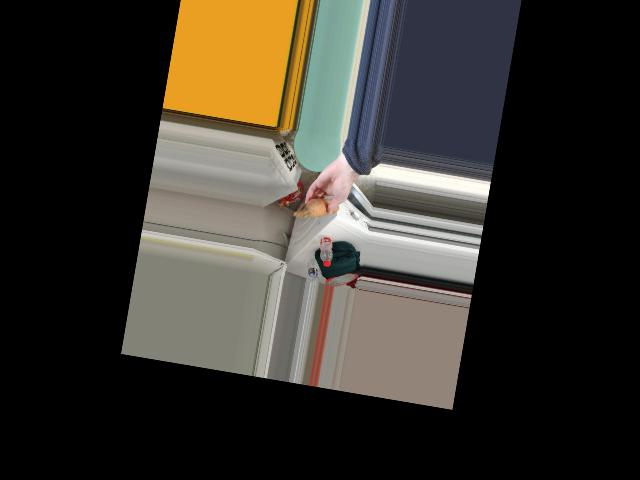sweet_potato: (305, 196, 335, 220)
